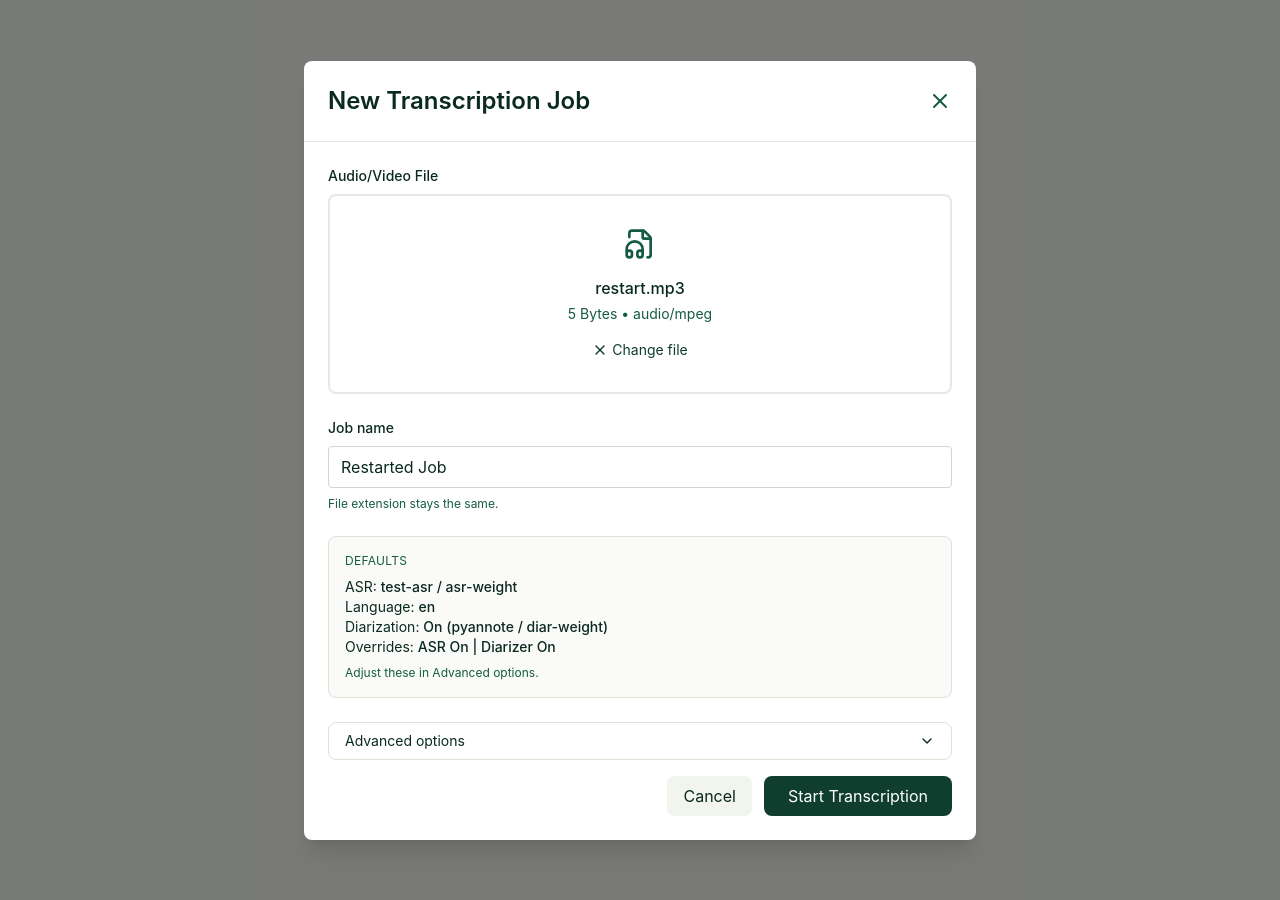
Test case: NewJobModal › prefills fields when restart data is provided
This screenshot has width=1280, height=900.
Expected: the text "restart.mp3" is shown, [595, 278, 685, 298]
Expected: the field labelled "Job name" holds "Restarted Job", [328, 446, 952, 488]
Click the button with test id "advanced-toggle" at [405, 740], box [328, 722, 952, 760]
(page scrolled)
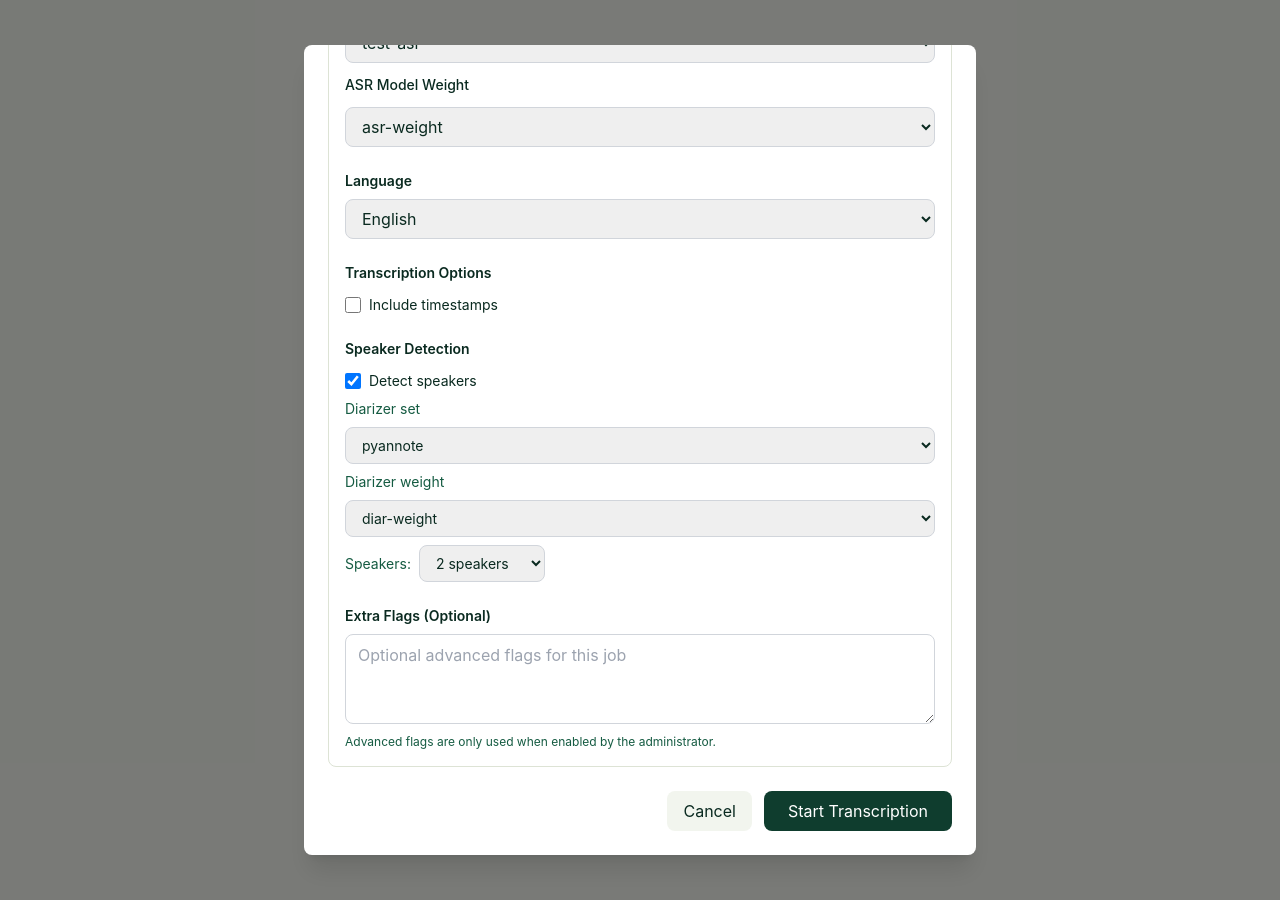
Expected: the element with test id "advanced-panel" is shown, [328, 45, 952, 767]
Expected: the dropdown with test id "model-select" shows "asr-weight", [345, 107, 935, 147]
Expected: the dropdown with test id "language-select" shows "English", [345, 199, 935, 239]
